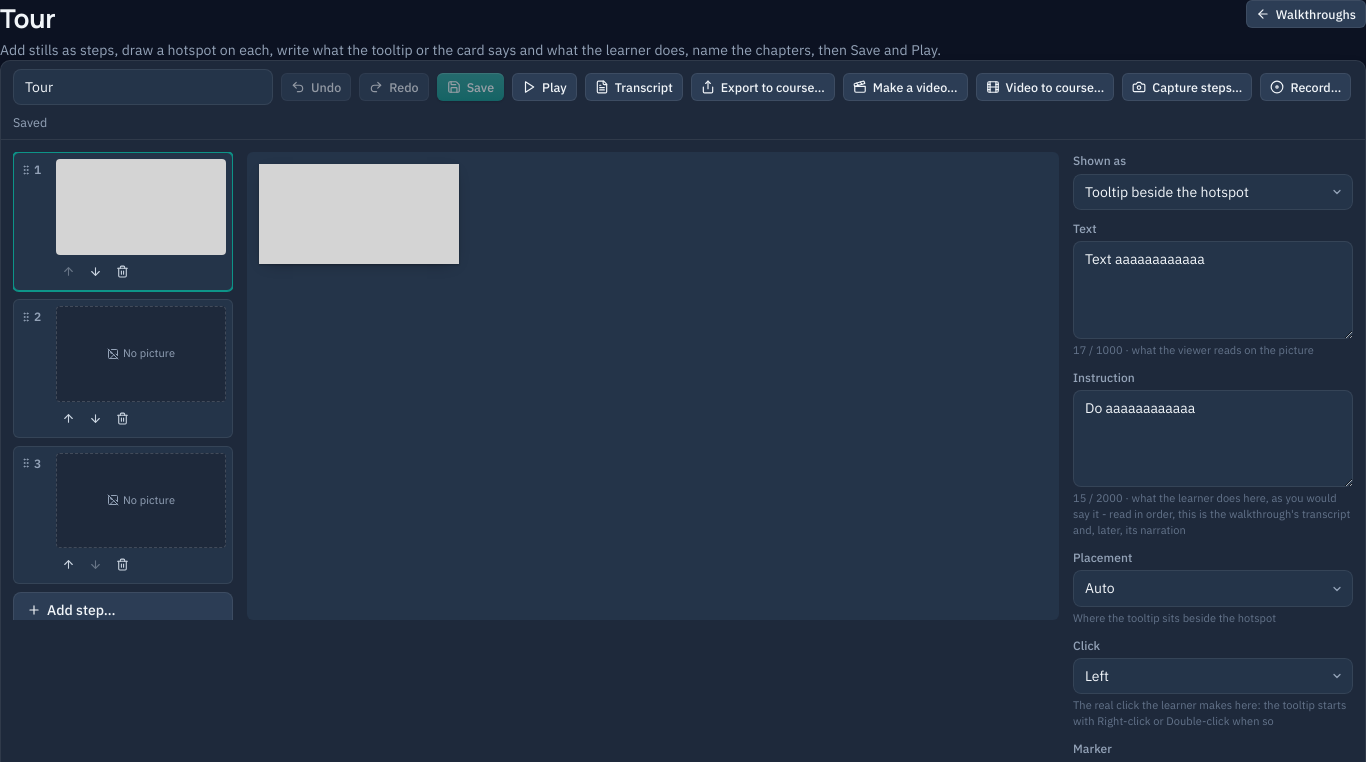
Test: the guided capture › the refusals the capture goes on under ride in the bar's payload: the key taken, the bar not hidden from the picture
This screenshot has width=1366, height=762.
Click the button "Capture steps…" at x=1187, y=87, box [1122,73,1252,101]
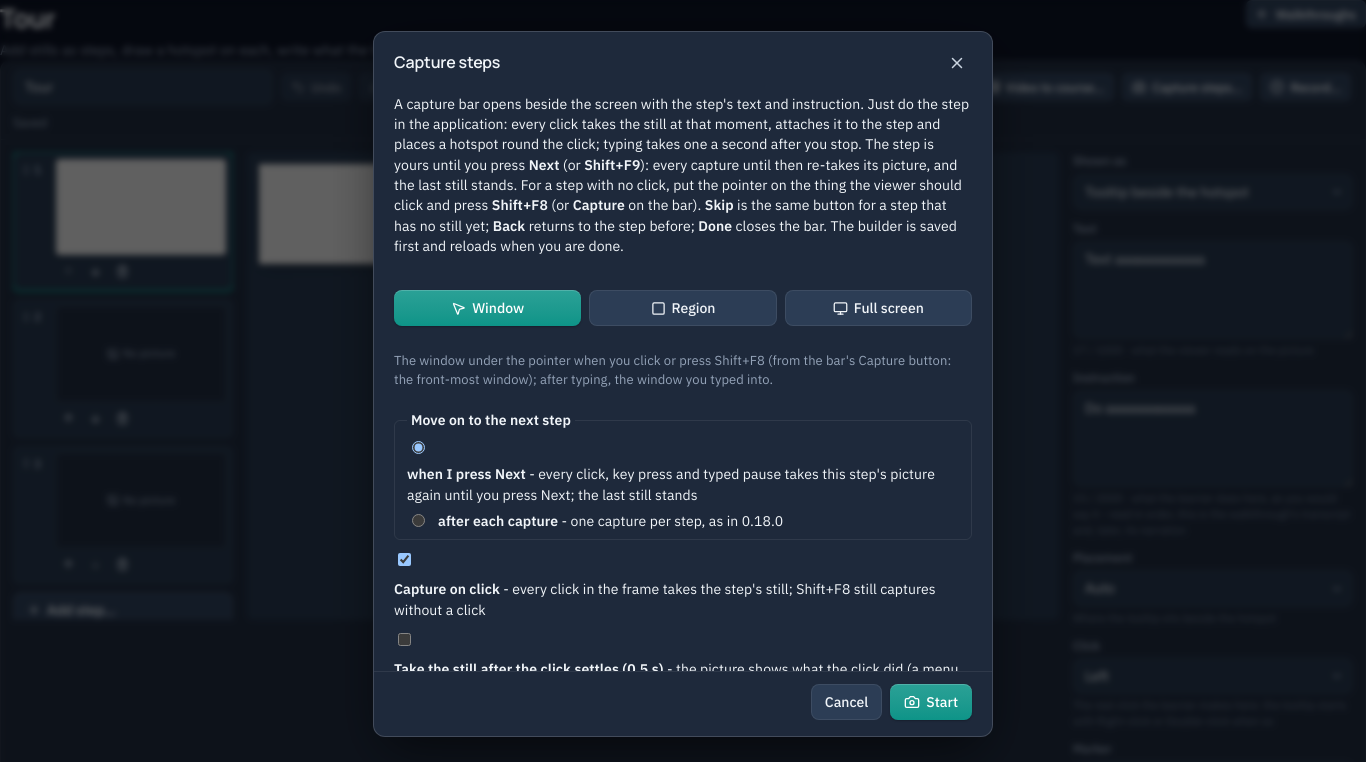
Expected: the dialog shows "Capture steps", [394,51,500,73]
Click the radio button labelled "after each capture - one capture per step, as in 0.18.0" at x=418, y=520, box [412,514,425,527]
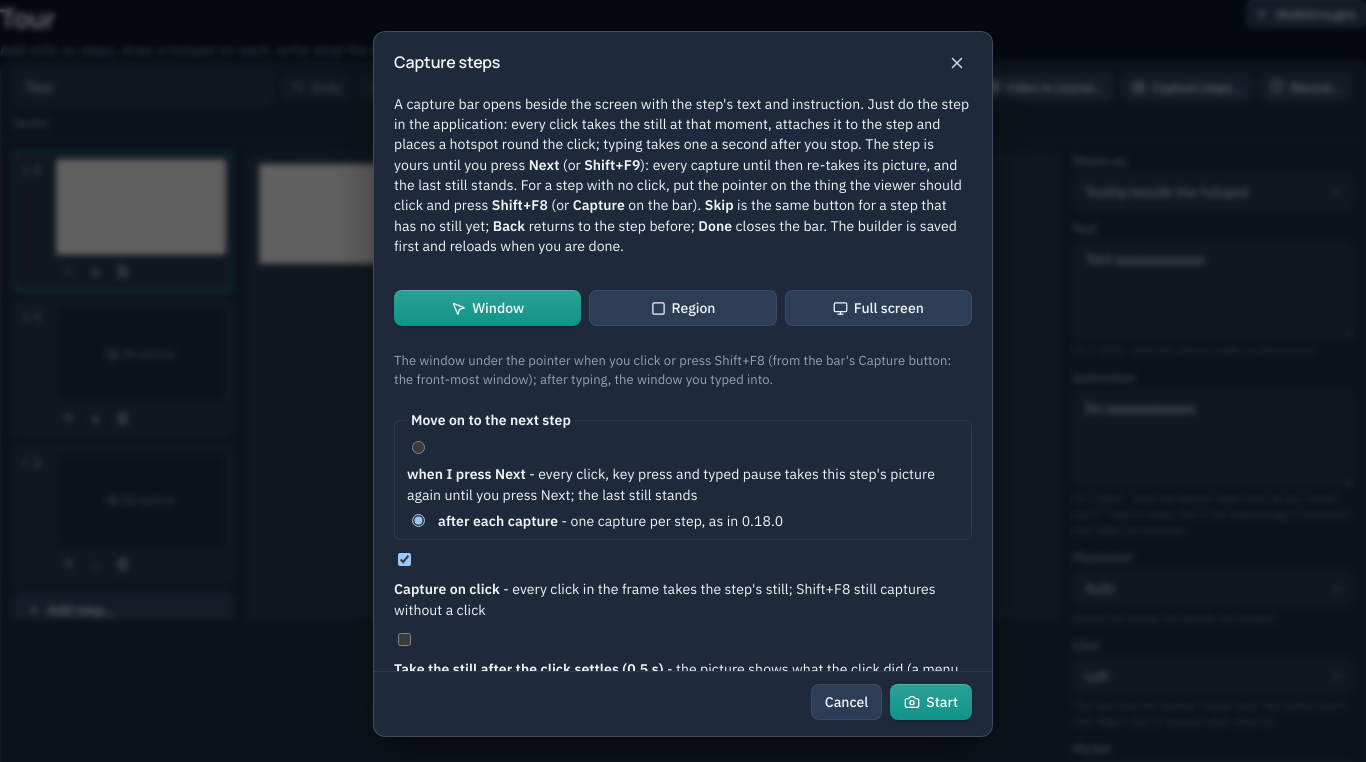
Click the button "Start" at x=931, y=702, box [890,684,972,720]
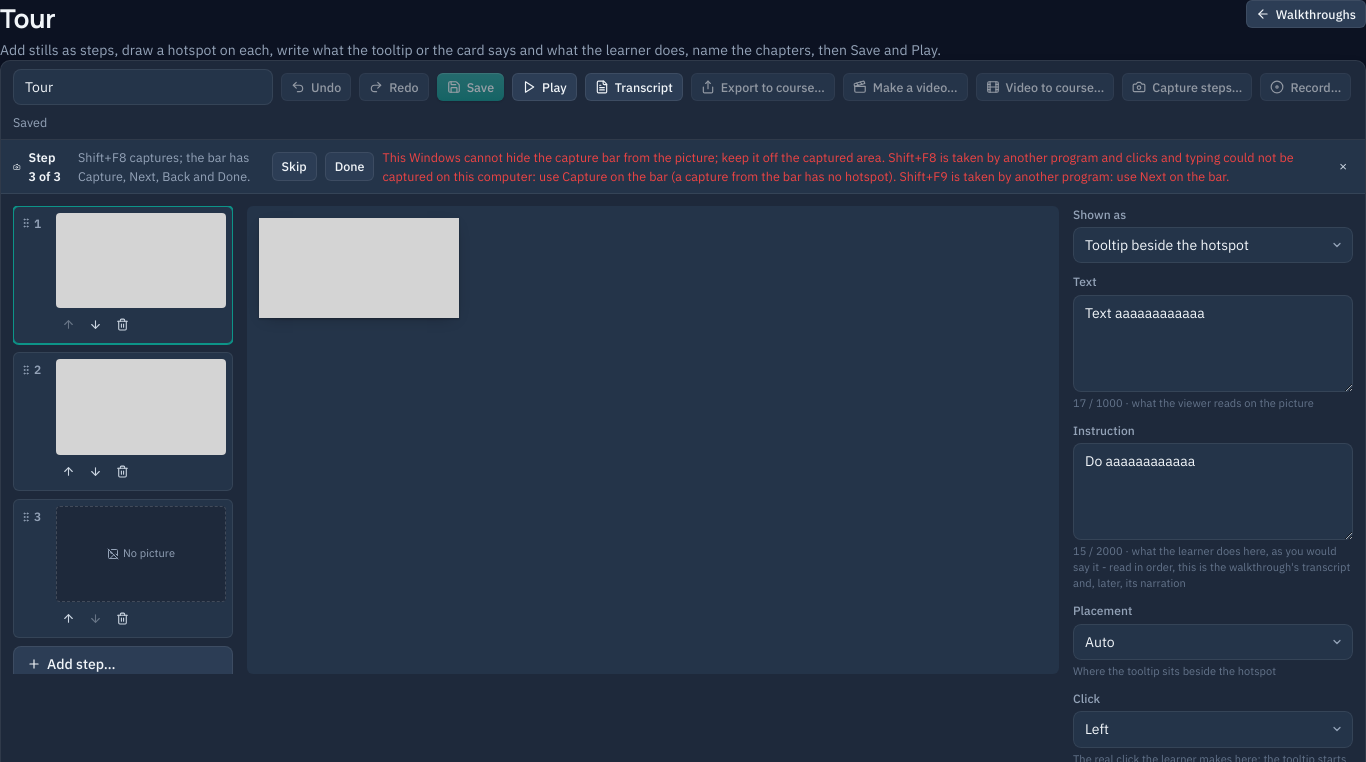
Expected: the text "Shift+F9 is taken by another program: use Next on the bar." is shown, [382,149,1294,184]
Expected: the text "Shift+F8 is taken by another program and clicks and typing could not be captured" is shown, [382,149,1294,184]
Expected: the text "Shift+F9 is taken" is shown, [382,149,1294,184]
